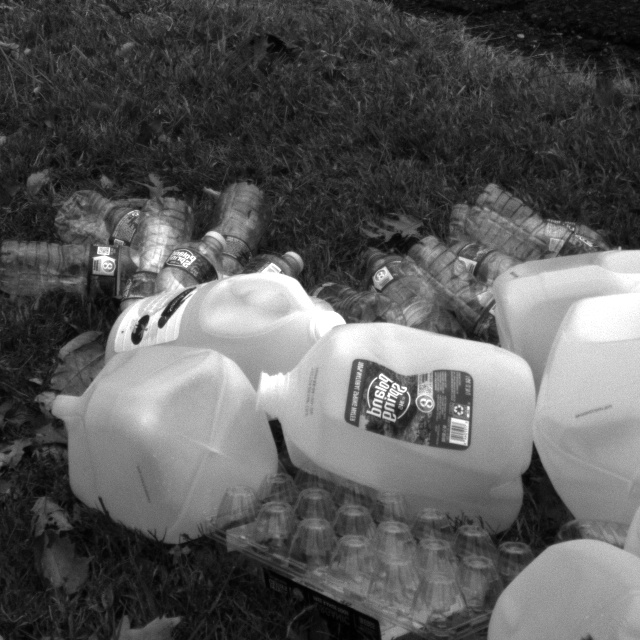bottle: (453, 160, 601, 270), (342, 231, 471, 357), (99, 170, 197, 307), (406, 221, 537, 314), (0, 232, 152, 303), (202, 160, 278, 300)
can: (246, 303, 552, 548), (22, 338, 301, 558), (95, 266, 356, 391), (533, 266, 640, 543), (487, 226, 640, 398), (471, 509, 640, 640)
container: (210, 492, 537, 626)
